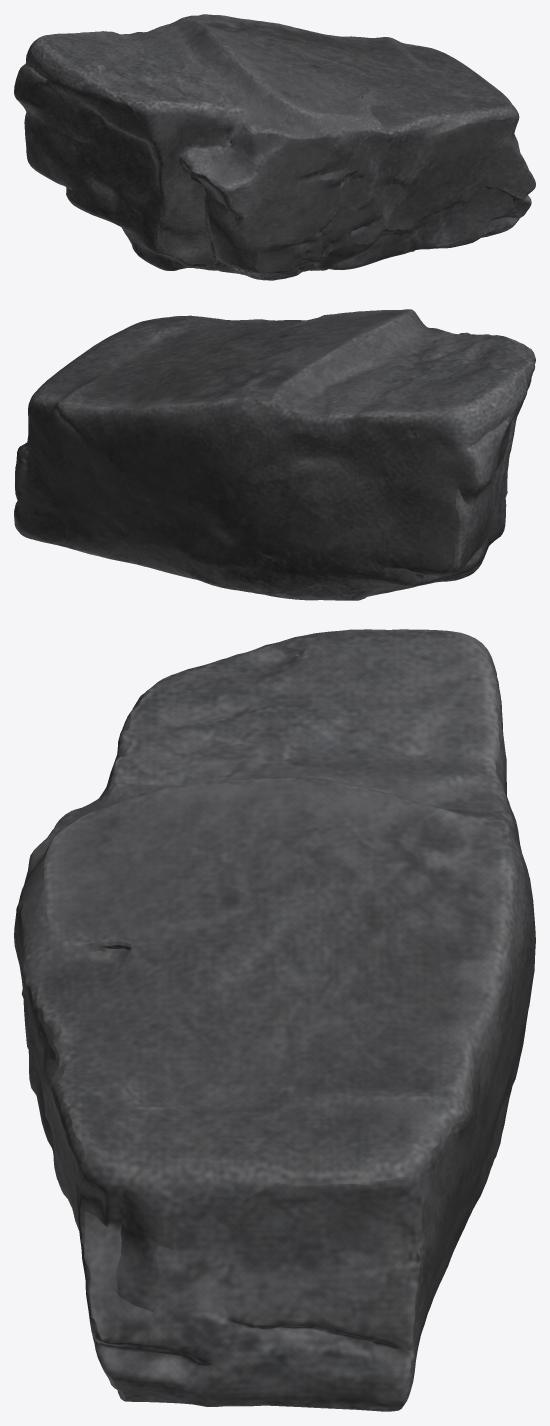
3 renders of one model, top to bottom at view 1: azimuth 30°, elevation 25°; view 2: azimuth 150°, elevation 25°; view 3: azimuth 270°, elevation 25°, orthographic. The views are drawn at different scales.
Parts seen in each view (by area): view 1: world; view 2: world; view 3: world.
Boxes of the visible parts, box(x1,y1,x2,y2) form: world: box(14, 14, 535, 280); world: box(14, 309, 535, 600); world: box(14, 629, 535, 1411).
Size of the model in its own units: 3.5 by 1.75 by 1.97.
1 material, 1 textured.
